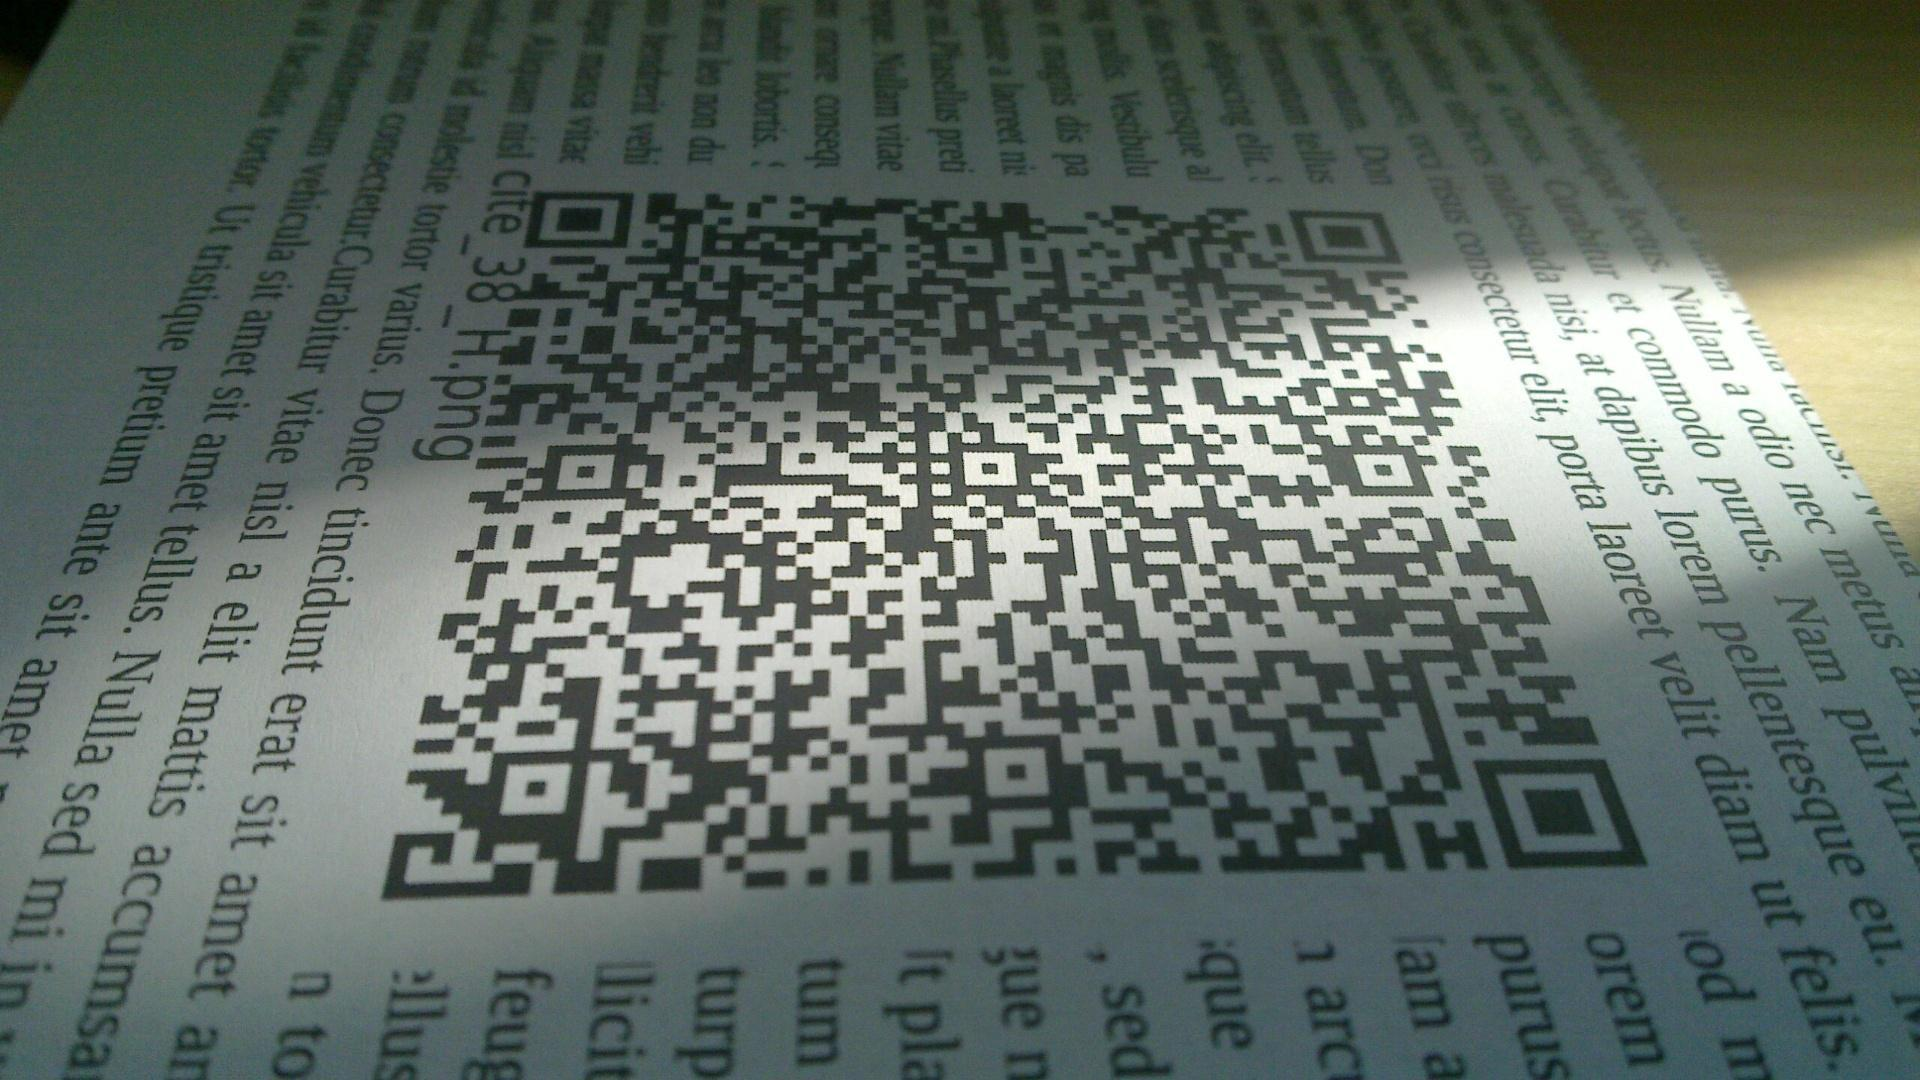Finder pattern: (1468, 746, 1654, 884), (1284, 202, 1408, 272), (525, 183, 636, 255)
